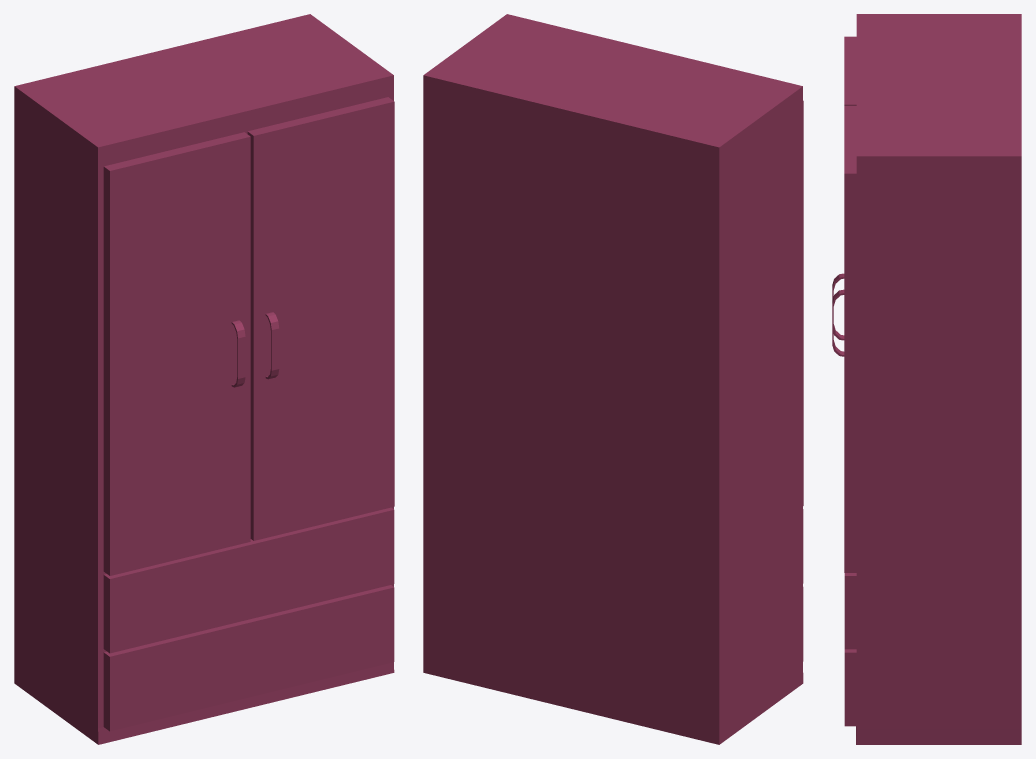
File: Placard 1.fbx
3 views of the same model, side by side, from view 1: azimuth 30°, elevation 25°; view 2: azimuth 150°, elevation 25°; view 3: azimuth 270°, elevation 25° (orthographic).
Parts seen in each view (by area): view 1: Placard, PlacardPuertaIZQ, PlacardPuertaDER; view 2: Placard; view 3: Placard, PlacardPuertaDER, PlacardPuertaIZQ.
Boxes of the visible parts, x1=… form: Placard: x1=14, y1=14, x2=394, y2=744; PlacardPuertaIZQ: x1=103, y1=132, x2=250, y2=575; PlacardPuertaDER: x1=247, y1=97, x2=394, y2=540; Placard: x1=423, y1=14, x2=803, y2=744; Placard: x1=844, y1=14, x2=1021, y2=744; PlacardPuertaDER: x1=832, y1=106, x2=856, y2=572; PlacardPuertaIZQ: x1=832, y1=36, x2=856, y2=340.
Size of the model in its own units: 0.811 by 1.56 by 0.4565.
